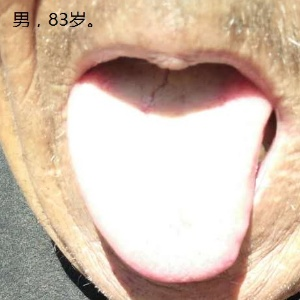st: (71, 86, 265, 281)
